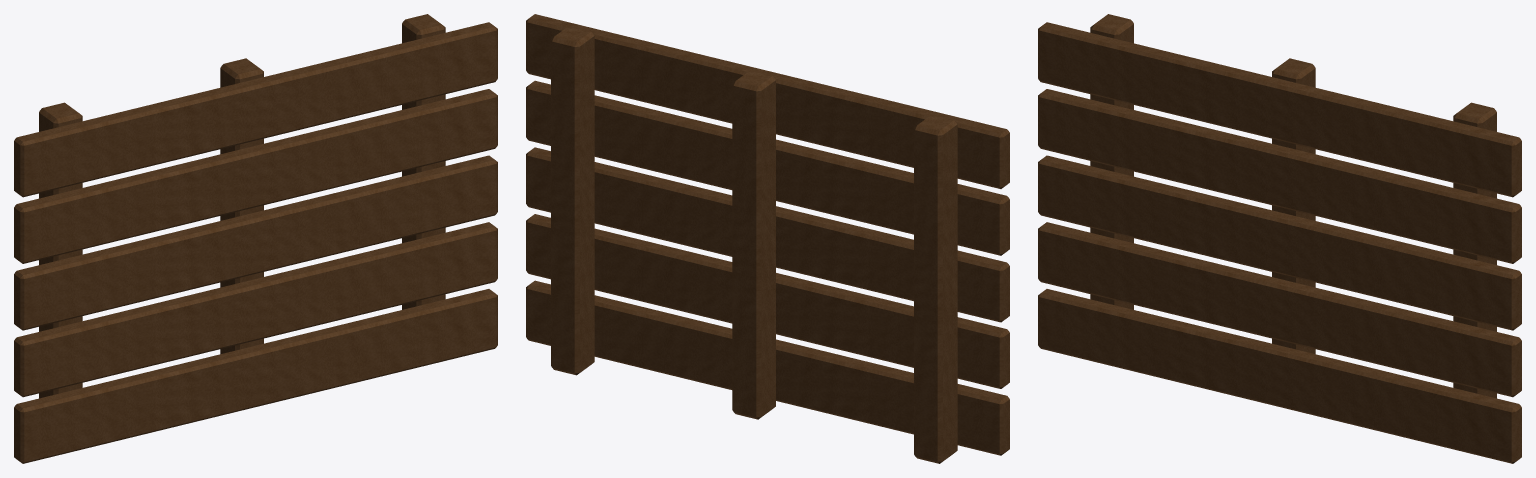
File: kit-pallet.obj
The picture shows the model from 3 angles, left to right: view 1: azimuth 30°, elevation 25°; view 2: azimuth 150°, elevation 25°; view 3: azimuth 330°, elevation 25°; orthographic projection.
Visible parts, largest first — view 1: Reusable.pallet; view 2: Reusable.pallet; view 3: Reusable.pallet.
Part boxes in pixels (x1,y1,x2,y2): Reusable.pallet: [14, 14, 497, 463]; Reusable.pallet: [526, 14, 1009, 463]; Reusable.pallet: [1038, 14, 1521, 463].
Size of the model in its own units: 3.6 by 2.4 by 0.36.
1 material, 1 textured.
